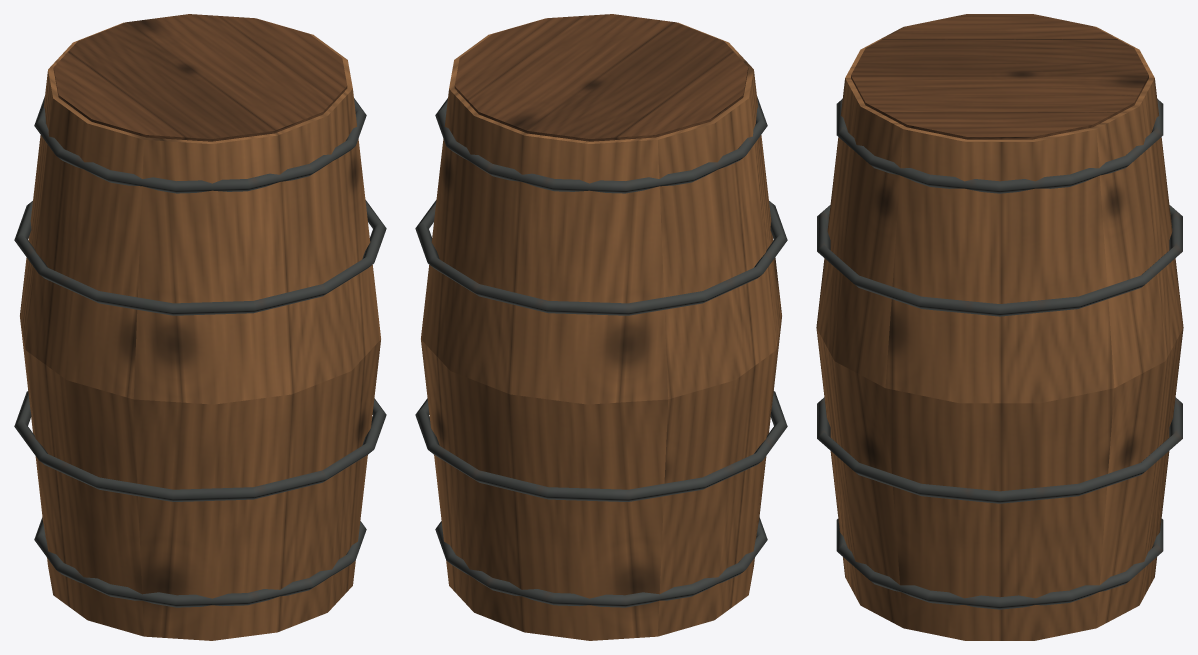
Rendered from OB_Beczka.fbx.
3 renders of one model, left to right at view 1: azimuth 30°, elevation 25°; view 2: azimuth 150°, elevation 25°; view 3: azimuth 270°, elevation 25°, orthographic.
Parts seen in each view (by area): view 1: Beczka; view 2: Beczka; view 3: Beczka.
Boxes of the visible parts, x1,y1,x2,y2 form: Beczka: [14, 14, 386, 640]; Beczka: [415, 14, 787, 640]; Beczka: [816, 14, 1183, 640].
Bounding box in the file's own units: 0.654 × 0.965 × 0.64.
